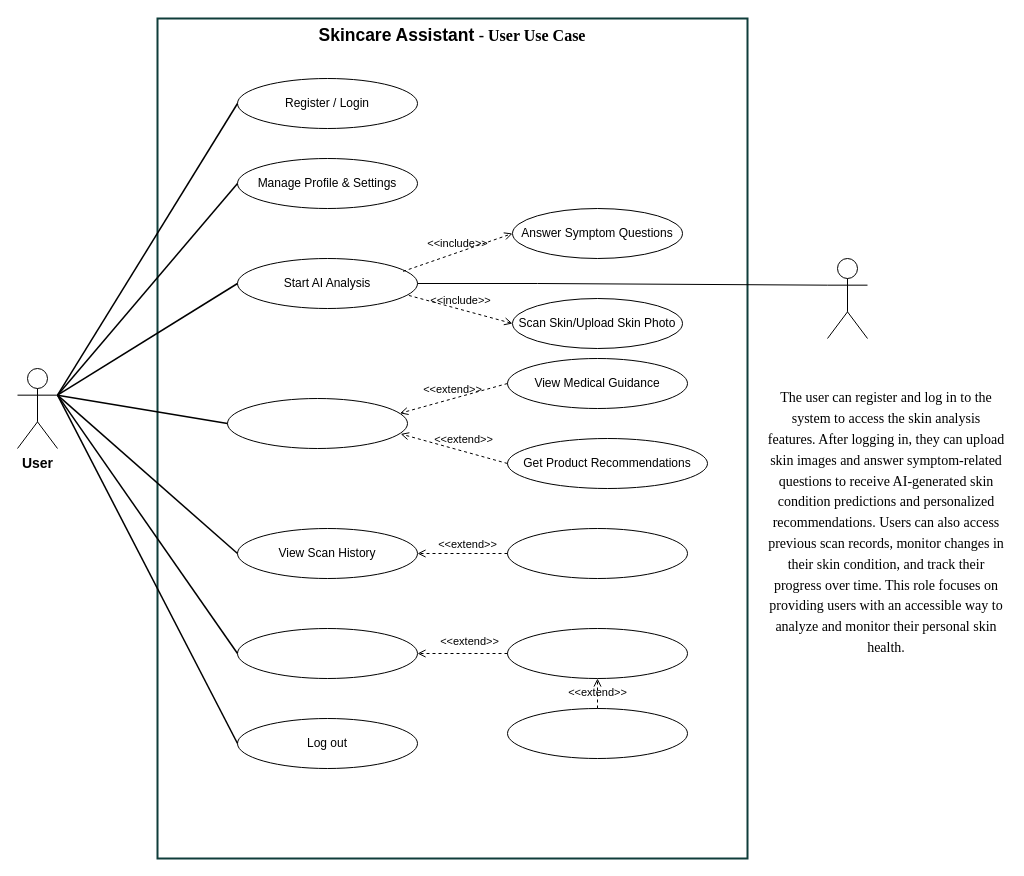
Image size: 1024x876. Some labels were removed from this diagram. The centre of each missing label's shape, as x and y in pixels:
AI Model: the point at 847,298
Browse Products: the point at 327,653
Rate Product & Write Review: the point at 597,733
View Product Details: the point at 597,653
View Progress Tracker: the point at 597,553
View Scan Result: the point at 317,423
